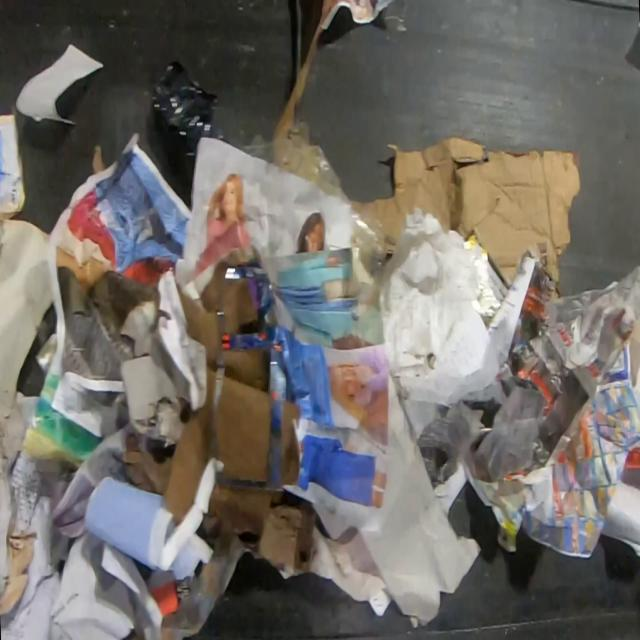cardboard: (124, 245, 334, 579), (349, 135, 582, 298), (0, 217, 54, 476)
rigid_plastic: (152, 60, 228, 192)
soft_plastic: (238, 119, 348, 200), (350, 204, 387, 285)
